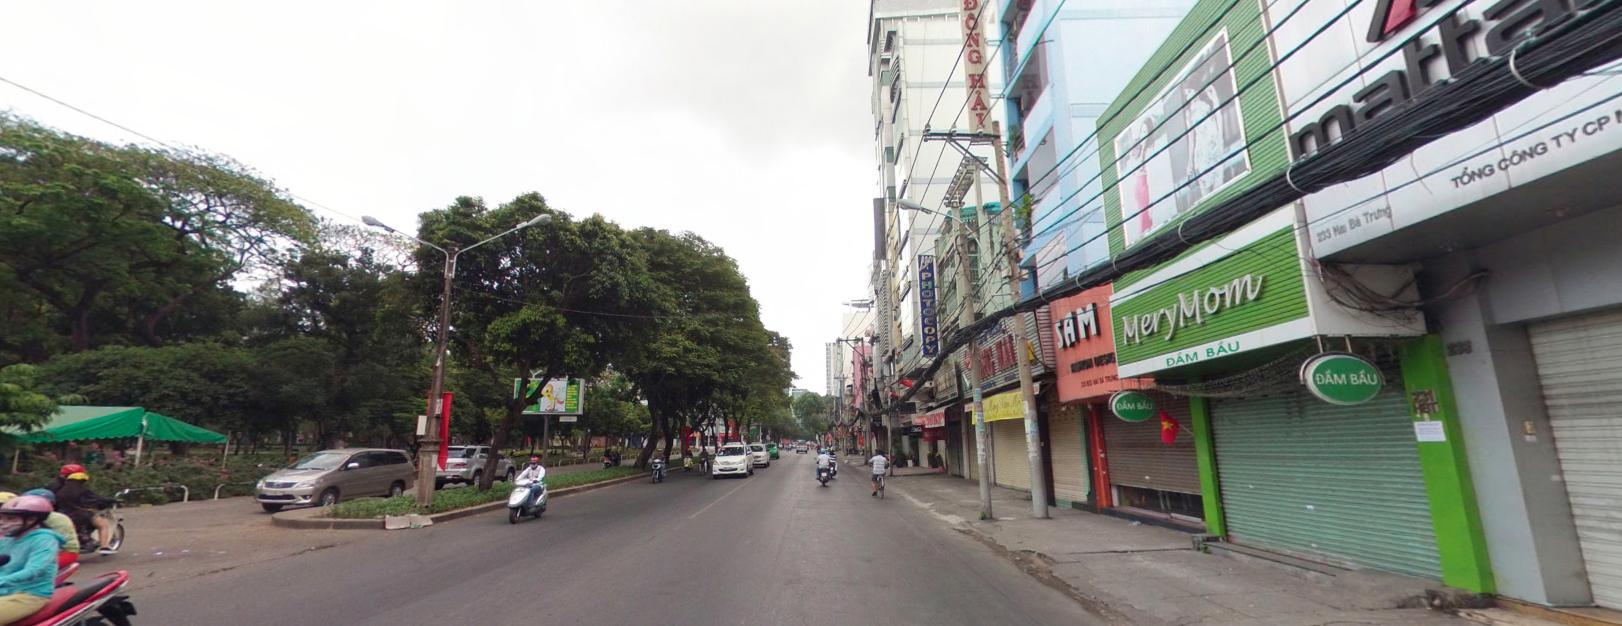Nguy hiem: (845, 430, 850, 434), (836, 433, 840, 436)
